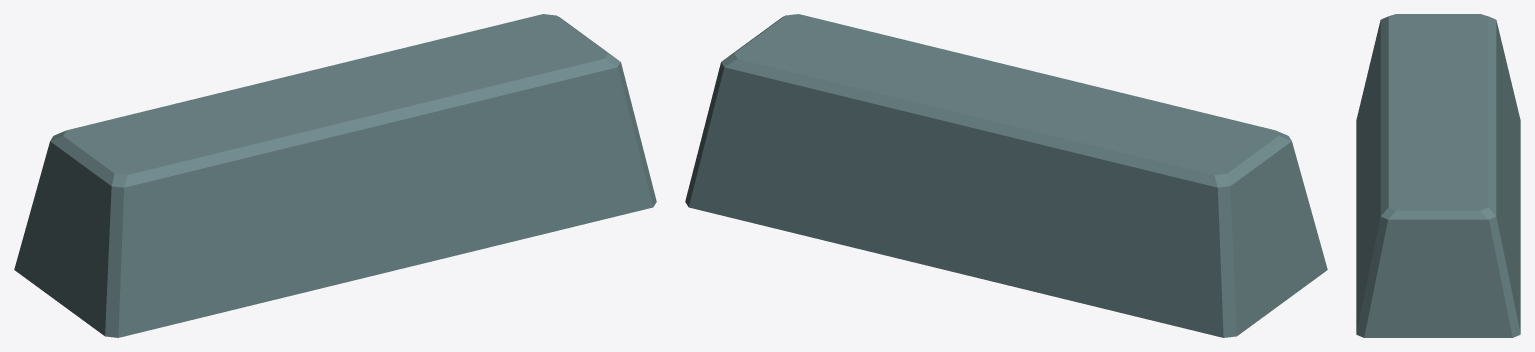
The model's file is SM_LP_RefinedMetal_1.fbx.
3 views of the same model, side by side, from view 1: azimuth 30°, elevation 25°; view 2: azimuth 150°, elevation 25°; view 3: azimuth 270°, elevation 25° (orthographic). The views are drawn at different scales.
Visible parts, largest first — view 1: SM_LP_RefinedMetal_1; view 2: SM_LP_RefinedMetal_1; view 3: SM_LP_RefinedMetal_1.
Boxes of the visible parts, x1=… form: SM_LP_RefinedMetal_1: x1=14, y1=14, x2=656, y2=337; SM_LP_RefinedMetal_1: x1=685, y1=14, x2=1327, y2=337; SM_LP_RefinedMetal_1: x1=1356, y1=14, x2=1520, y2=337.
Bounding box in the file's own units: 0.5944 × 0.1455 × 0.1879.
